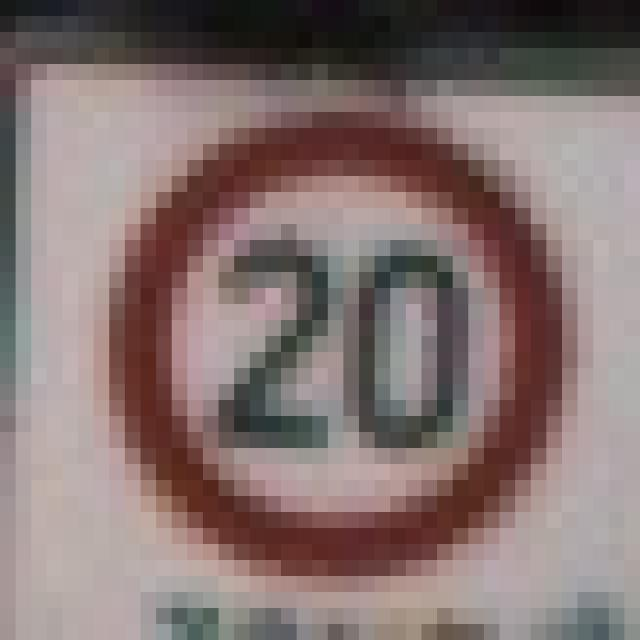Speed Limit -20-: (94, 80, 562, 560)
